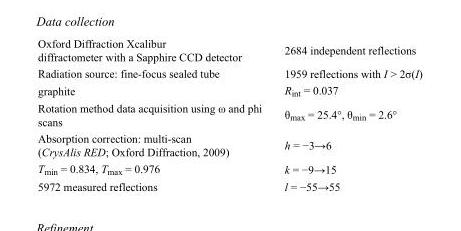table: (37, 36, 421, 192)
table column: (37, 36, 272, 192), (272, 36, 421, 192)
table row: (37, 99, 421, 129), (37, 129, 421, 159), (37, 36, 421, 64), (37, 81, 421, 99), (37, 159, 421, 177), (37, 64, 421, 81), (37, 177, 421, 192)
